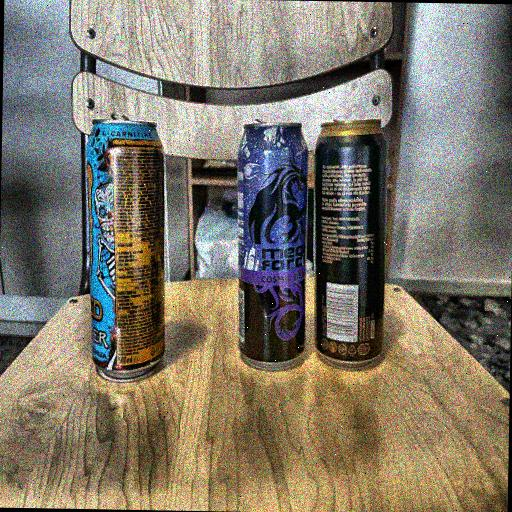karhu: (306, 114, 399, 376)
